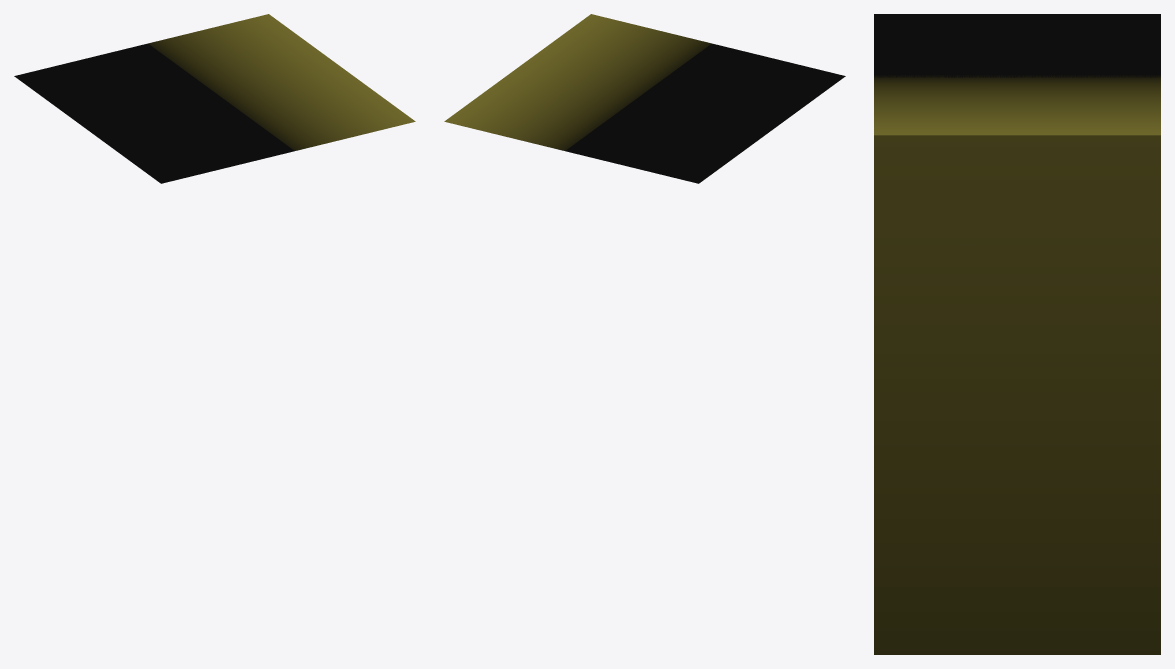
The picture shows the model from 3 angles, left to right: view 1: azimuth 30°, elevation 25°; view 2: azimuth 150°, elevation 25°; view 3: azimuth 270°, elevation 25°; orthographic projection. The views are drawn at different scales.
Bounding box in the file's own units: 1 × 2 × 1.
Materials: 1 (1 with a texture image).
